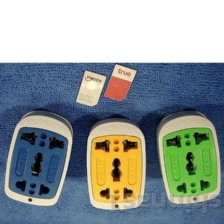three_eye_plug: (0, 107, 76, 211), (153, 107, 222, 206), (83, 114, 150, 215)
